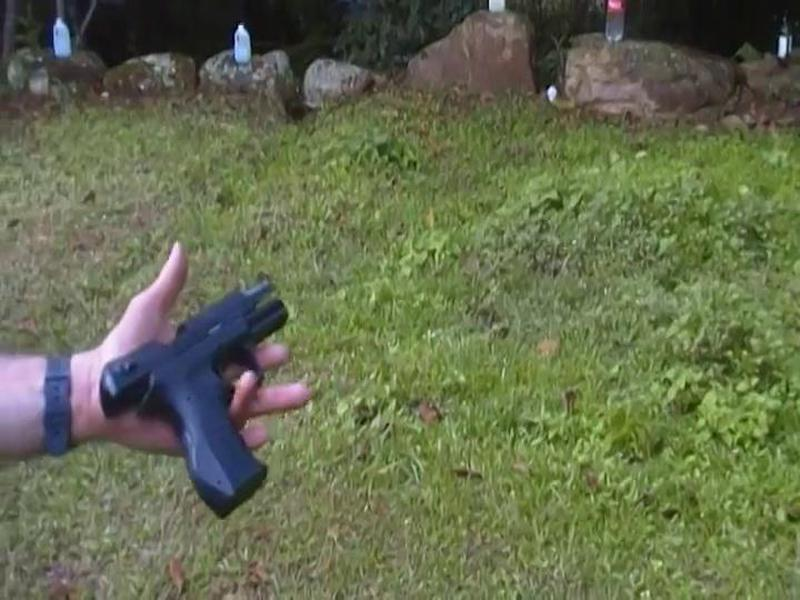Pistola: (80, 267, 309, 530)
